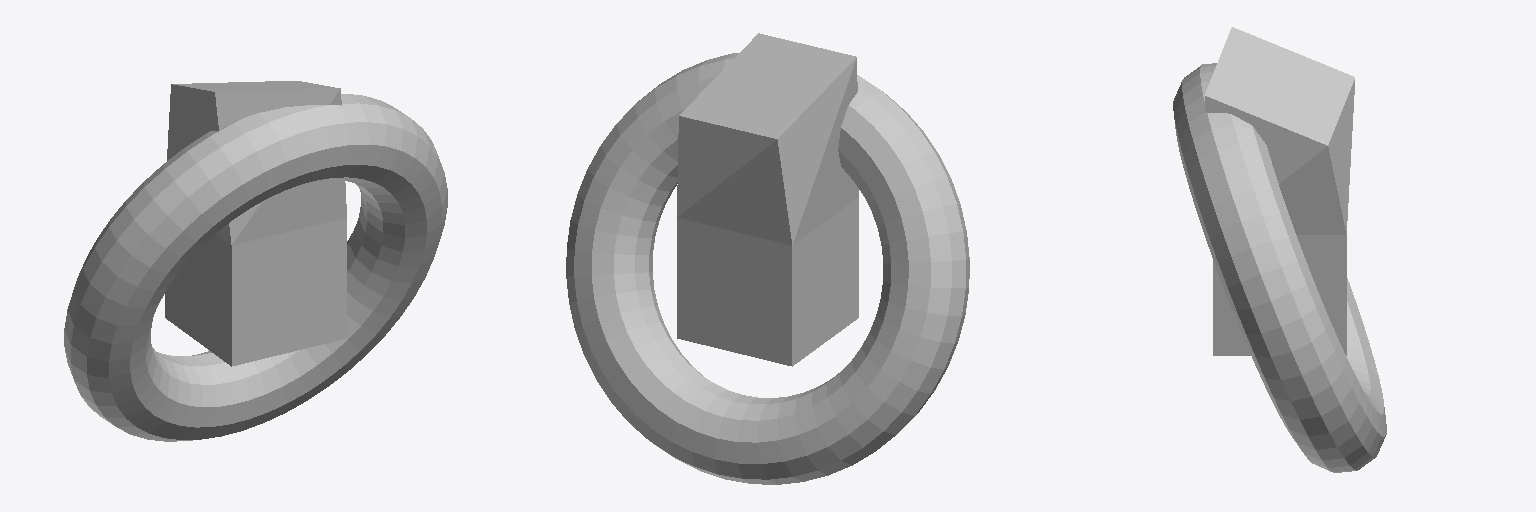
File: Untriangulated.obj
The picture shows the model from 3 angles: view 1: azimuth 30°, elevation 25°; view 2: azimuth 150°, elevation 25°; view 3: azimuth 270°, elevation 25°; orthographic projection.
Visible parts, largest first — view 1: Torus, The_Untriangulated_One; view 2: Torus, The_Untriangulated_One; view 3: Torus, The_Untriangulated_One.
Boxes of the visible parts, x1,y1,x2,y2 form: Torus: [64, 94, 447, 441]; The_Untriangulated_One: [165, 81, 346, 366]; Torus: [566, 53, 969, 484]; The_Untriangulated_One: [677, 33, 858, 366]; Torus: [1173, 63, 1386, 472]; The_Untriangulated_One: [1205, 27, 1354, 355].
Bounding box in the file's own units: 6.51 × 6.53 × 3.21.